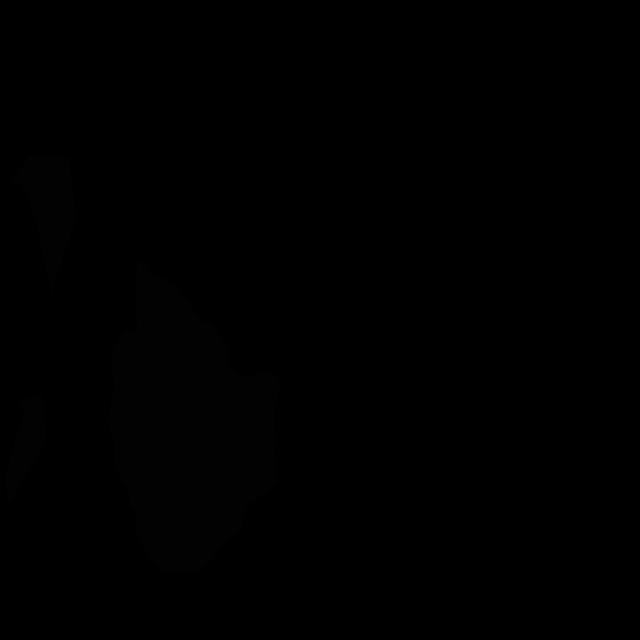cardboard: (108, 260, 281, 572), (10, 156, 76, 295), (4, 394, 46, 505)
